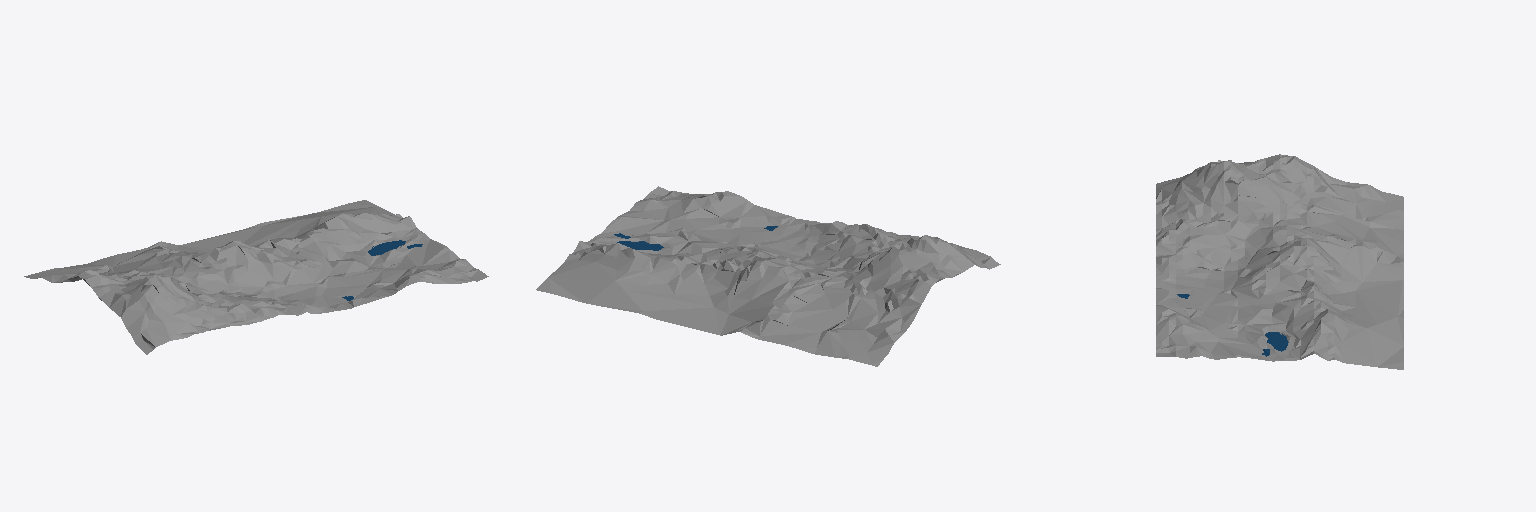
File: terrain.obj
3 renders of one model, left to right at view 1: azimuth 30°, elevation 25°; view 2: azimuth 150°, elevation 25°; view 3: azimuth 270°, elevation 25°, orthographic.
Parts seen in each view (by area): view 1: terrain; view 2: terrain; view 3: terrain.
Part boxes in pixels (left/top/right/bottom): terrain: left=24, top=200, right=488, bottom=354; terrain: left=536, top=186, right=1000, bottom=366; terrain: left=1156, top=154, right=1403, bottom=369.
Size of the model in its own units: 80 by 14.17 by 50.